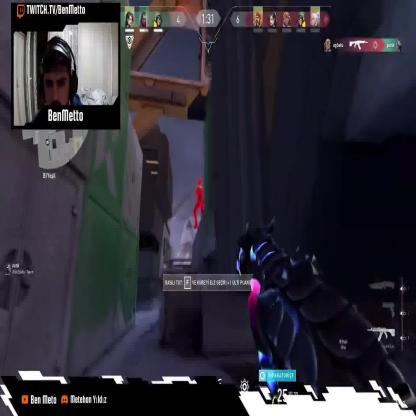enemy: (192, 178, 206, 230)
enemy_head: (198, 178, 202, 186)
